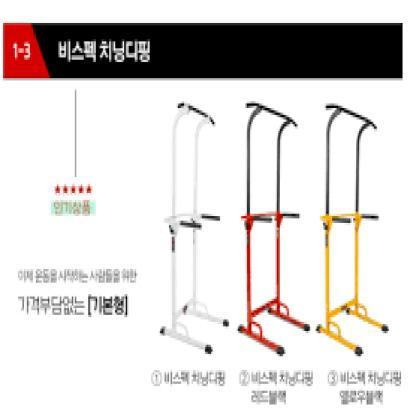chinning dipping: (317, 98, 392, 357), (238, 99, 313, 356), (160, 102, 229, 355)
